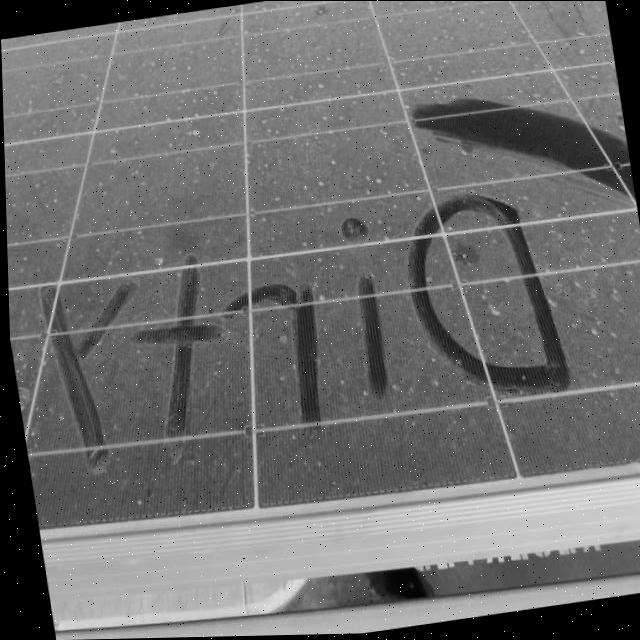Anomaly Solar Panel: (0, 0, 640, 640)
Surface Contaminant: (1, 0, 640, 537)
